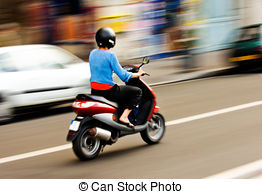helmet: (83, 23, 120, 56)
